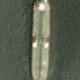ship: (0, 0, 16, 40)
